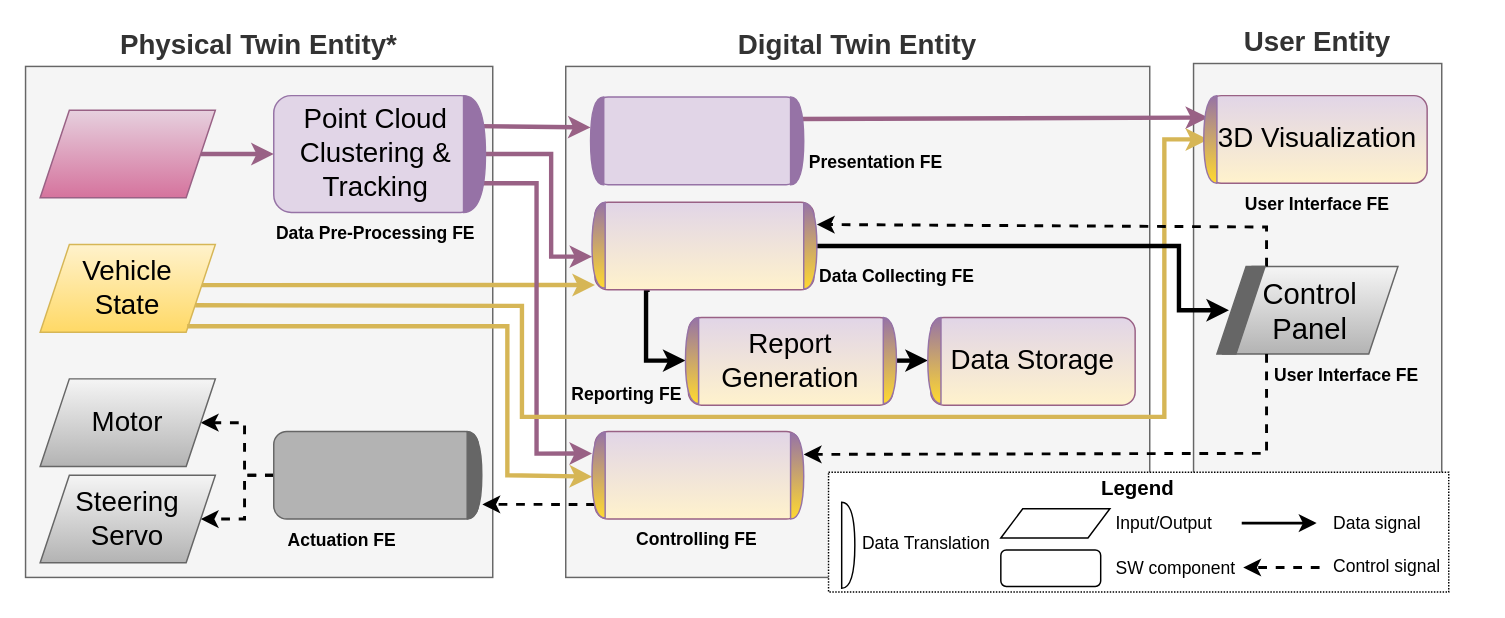
Some shapes in this 1505 by 618 pixel diagram are drawn without their labels. The shapes that lost their labels are listed below. From the top down, each one's centre as x and y in pixels, then its label:
the point at 127,153: LiDAR
the point at 696,140: Visualization Pre-processing
the point at 703,245: Data Collection
the point at 375,474: Actuation
the point at 696,474: ACC
